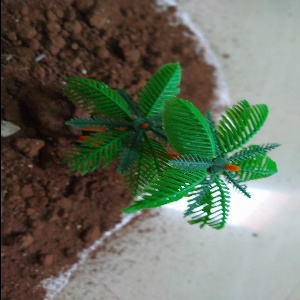plant: (56, 61, 280, 237)
